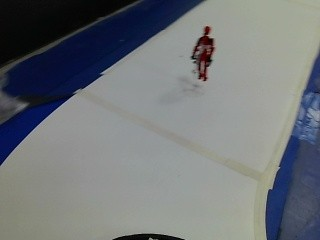pedestrian: (190, 24, 213, 83)
